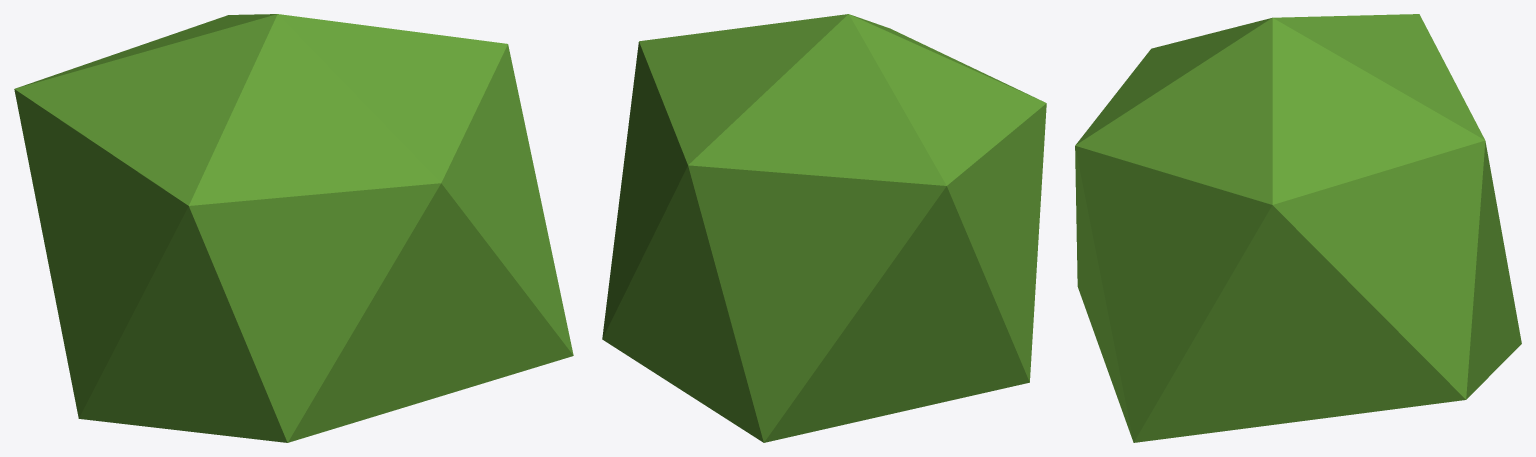
Rendered from Bush_04.fbx.
3 renders of one model, left to right at view 1: azimuth 30°, elevation 25°; view 2: azimuth 150°, elevation 25°; view 3: azimuth 270°, elevation 25°, orthographic. The views are drawn at different scales.
Visible parts, largest first — view 1: Bush_04; view 2: Bush_04; view 3: Bush_04.
Boxes of the visible parts, x1,y1,x2,y2 form: Bush_04: (14,14,573,442); Bush_04: (602,14,1046,442); Bush_04: (1075,14,1521,442).
Bounding box in the file's own units: 188 × 167 × 180.
